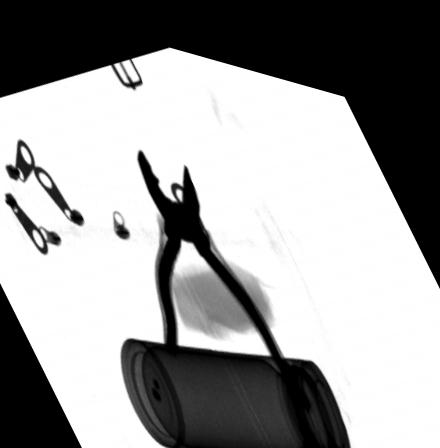Pliers: (133, 140, 312, 398)
